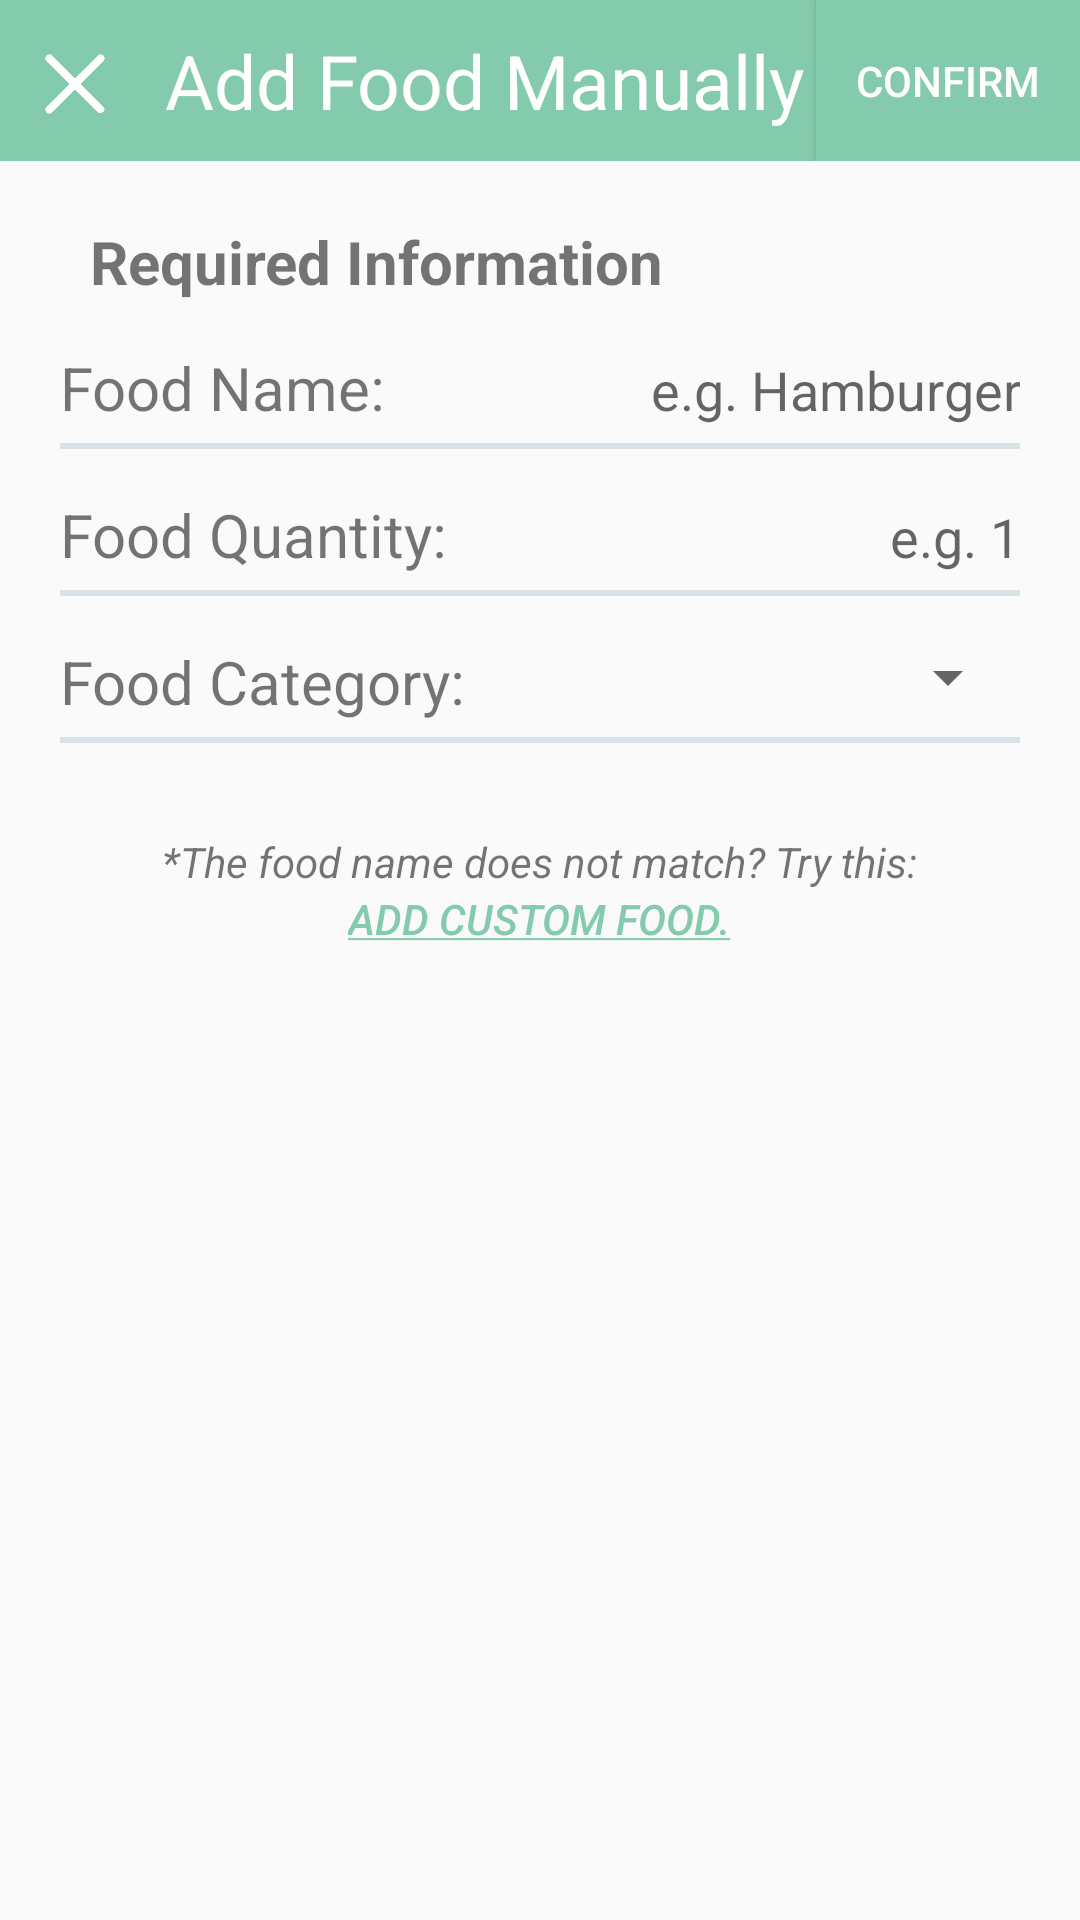

Named icons in this screenshot (1080*1920) and their bounding boxes, (x1, y1, x2, y2):
cancel: (45, 54, 105, 114)
